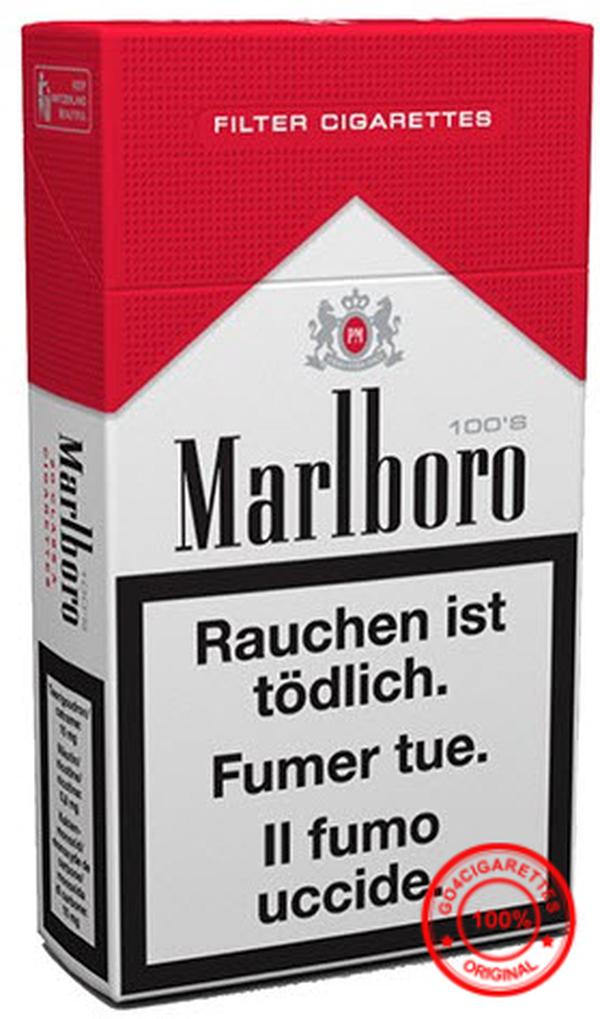marlboro_red: (113, 24, 564, 933)
